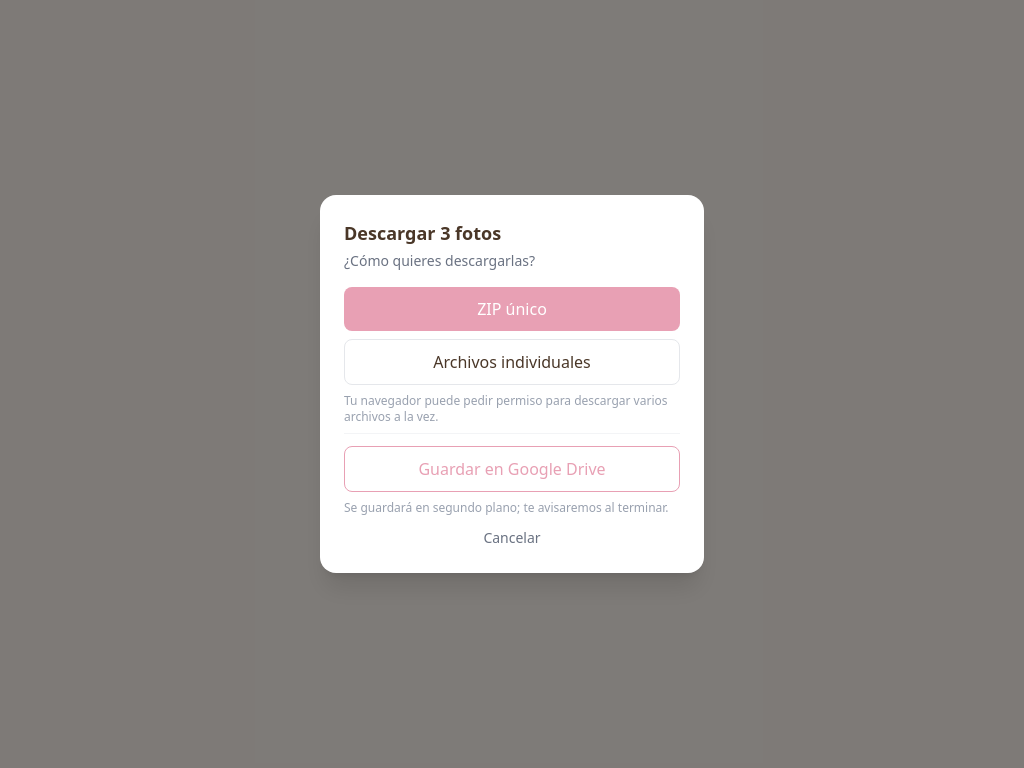
DownloadDialog › error drive_reconnect muestra el aviso de caducidad
Click the button "Guardar en Google Drive": (512, 469) [344,446,680,492]
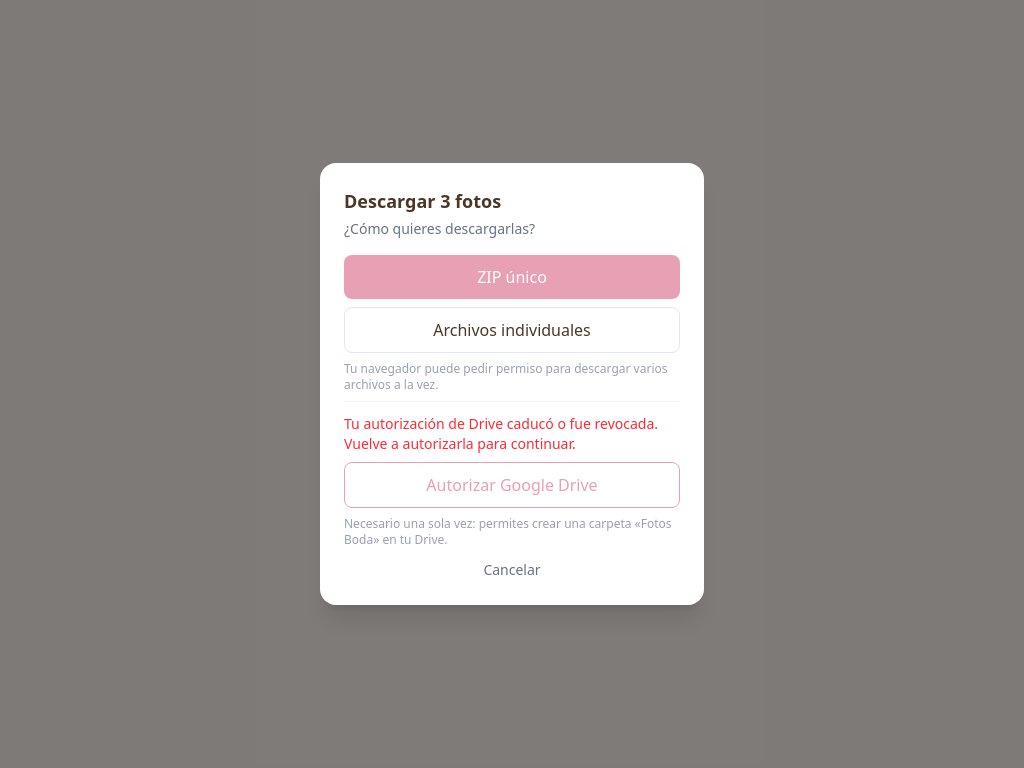
expect the text "autorización de Drive caducó" is shown: met, box [344,414,658,453]
expect the link "Autorizar Google Drive" is shown: met, box [344,462,680,508]
